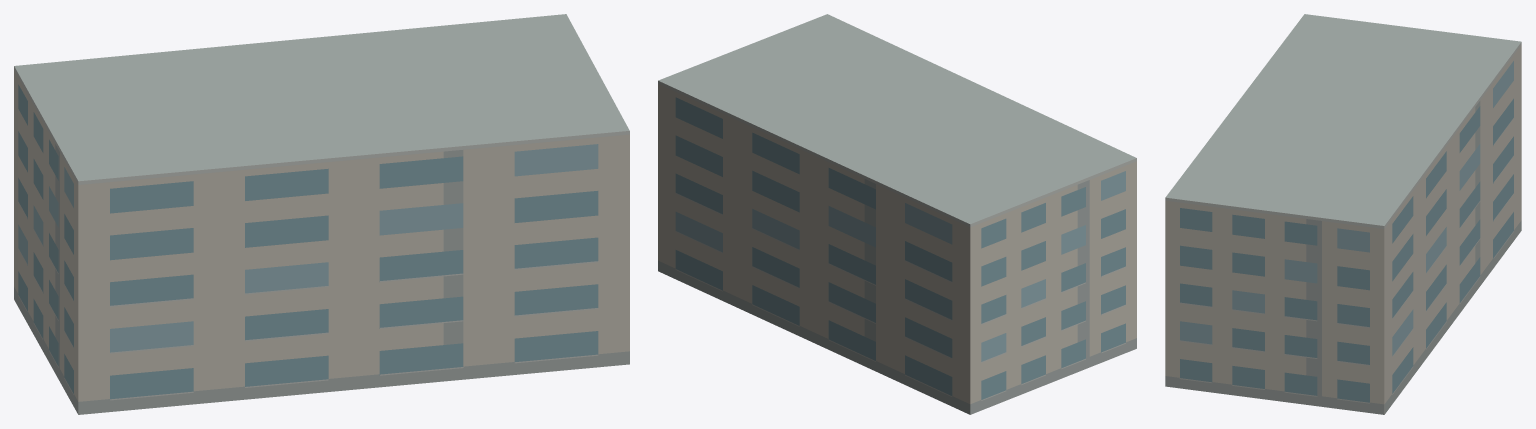
The model's file is survey-upis-32818329.glb.
3 renders of one model, left to right at view 1: azimuth 30°, elevation 25°; view 2: azimuth 150°, elevation 25°; view 3: azimuth 270°, elevation 25°, orthographic. The views are drawn at different scales.
Visible parts, largest first — view 1: survey-upis-32818329.tmp; view 2: survey-upis-32818329.tmp; view 3: survey-upis-32818329.tmp.
Boxes of the visible parts, bbox=[...] form: survey-upis-32818329.tmp: bbox=[14, 14, 629, 414]; survey-upis-32818329.tmp: bbox=[658, 14, 1136, 414]; survey-upis-32818329.tmp: bbox=[1165, 14, 1521, 414].
Bounding box in the file's own units: 36.73 × 15.25 × 26.09.
